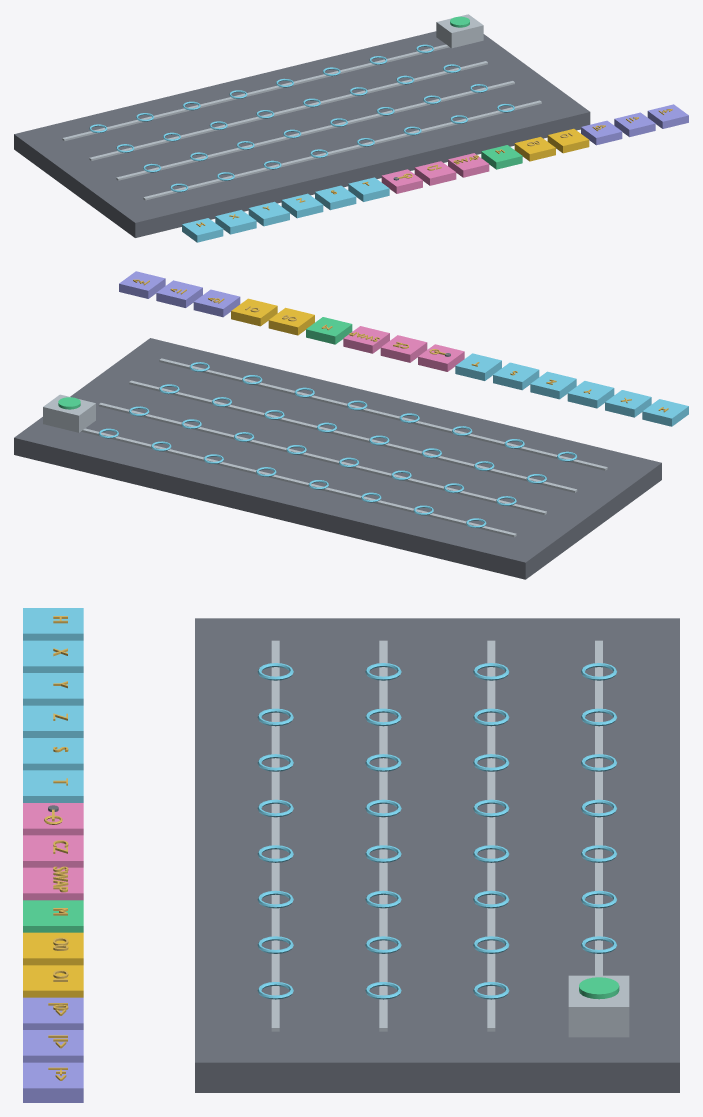
File: qc_circuit_kit.glb
The picture shows the model from 3 angles, top to bottom: view 1: azimuth 30°, elevation 25°; view 2: azimuth 150°, elevation 25°; view 3: azimuth 270°, elevation 25°; orthographic projection. The views are drawn at different scales.
Parts seen in each view (by area): view 1: rail-board, output-meter, token-oracle-balanced, token-h, token-cz, token-z, token-cnot, token-oracle-constant, token-measure, token-t, token-x, token-ket-0 (+5 smaller); view 2: rail-board, output-meter, token-y, token-cz, token-ket-0, token-h, token-ket-1, token-s, token-ket-plus, token-oracle-balanced, token-z, token-swap (+5 smaller); view 3: rail-board, output-meter, token-ket-plus, token-swap, token-oracle-constant, token-cnot, token-h, token-ket-0, token-ket-1, token-measure, token-oracle-balanced, token-s (+5 smaller).
Part boxes in pixels (box(x1,y1,x2,y2)): rail-board: box(14, 31, 590, 237); output-meter: box(436, 14, 483, 48); token-oracle-balanced: box(547, 128, 589, 153); token-h: box(182, 218, 223, 242); token-cz: box(414, 161, 456, 185); token-z: box(281, 193, 323, 218); token-cnot: box(381, 169, 422, 193); token-oracle-constant: box(514, 137, 555, 161); token-measure: box(481, 145, 522, 169); token-t: box(348, 177, 389, 201); token-x: box(215, 210, 256, 234); token-ket-0: box(581, 120, 622, 145); rail-board: box(14, 338, 661, 579); output-meter: box(43, 394, 95, 432); token-y: box(567, 381, 614, 408); token-cz: box(380, 335, 427, 362); token-ket-0: box(193, 289, 240, 317); token-h: box(642, 399, 688, 426); token-ket-1: box(156, 280, 202, 307); token-s: box(493, 362, 539, 390); token-ket-plus: box(119, 271, 165, 298); token-oracle-balanced: box(231, 298, 277, 326); token-z: box(530, 371, 576, 399); token-swap: box(343, 326, 389, 353); rail-board: box(195, 618, 679, 1092); output-meter: box(568, 975, 629, 1037); token-ket-plus: box(23, 1062, 83, 1102); token-swap: box(23, 866, 83, 900); token-oracle-constant: box(23, 932, 83, 965); token-cnot: box(23, 803, 83, 835); token-h: box(23, 608, 83, 640); token-ket-0: box(23, 997, 83, 1029); token-ket-1: box(23, 1030, 83, 1062); token-measure: box(23, 900, 83, 932); token-oracle-balanced: box(23, 965, 83, 997); token-s: box(23, 738, 83, 770).
Size of the model in its own units: 0.8755 by 0.0645 by 0.4875.
